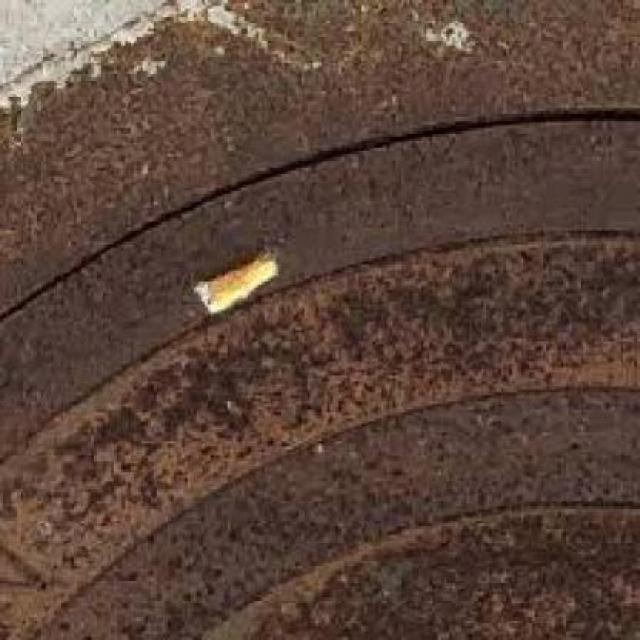cigarette: (159, 253, 313, 333)
